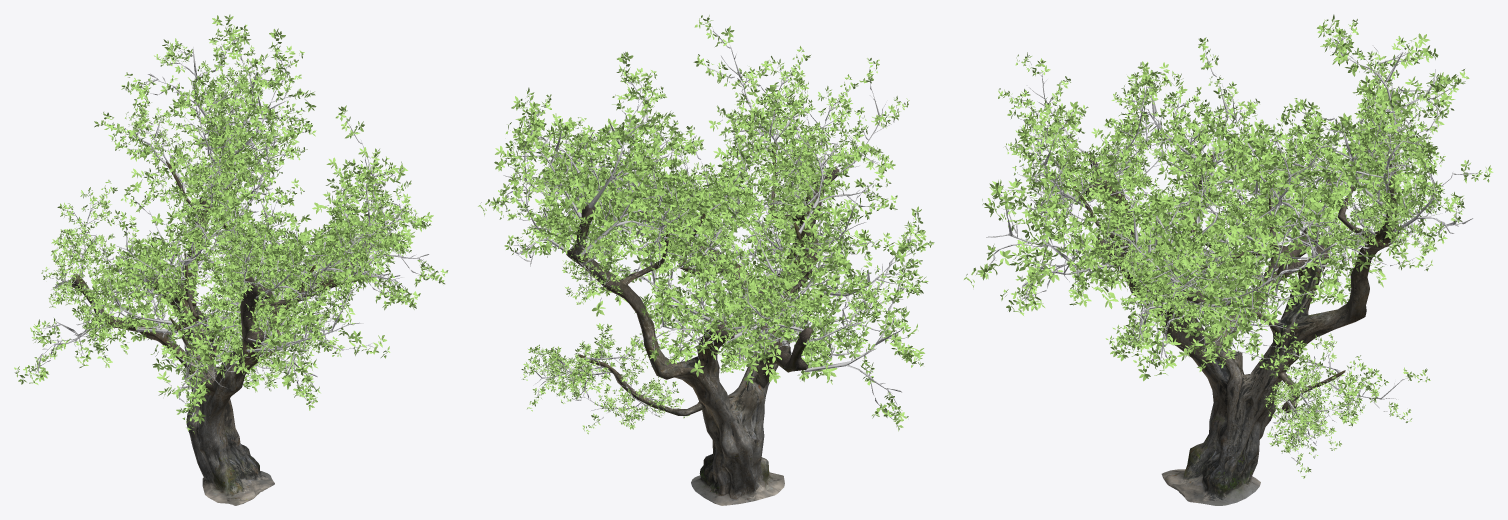
The model's file is tree1LOD1.fbx.
3 renders of one model, left to right at view 1: azimuth 30°, elevation 25°; view 2: azimuth 150°, elevation 25°; view 3: azimuth 270°, elevation 25°, orthographic. The views are drawn at different scales.
Visible parts, largest first — view 1: island_tree_01_LOD1; view 2: island_tree_01_LOD1; view 3: island_tree_01_LOD1.
Boxes of the visible parts, x1=… form: island_tree_01_LOD1: x1=14, y1=14, x2=448, y2=505; island_tree_01_LOD1: x1=478, y1=15, x2=934, y2=505; island_tree_01_LOD1: x1=964, y1=14, x2=1493, y2=505.
Size of the model in its own units: 476 by 503 by 482.
